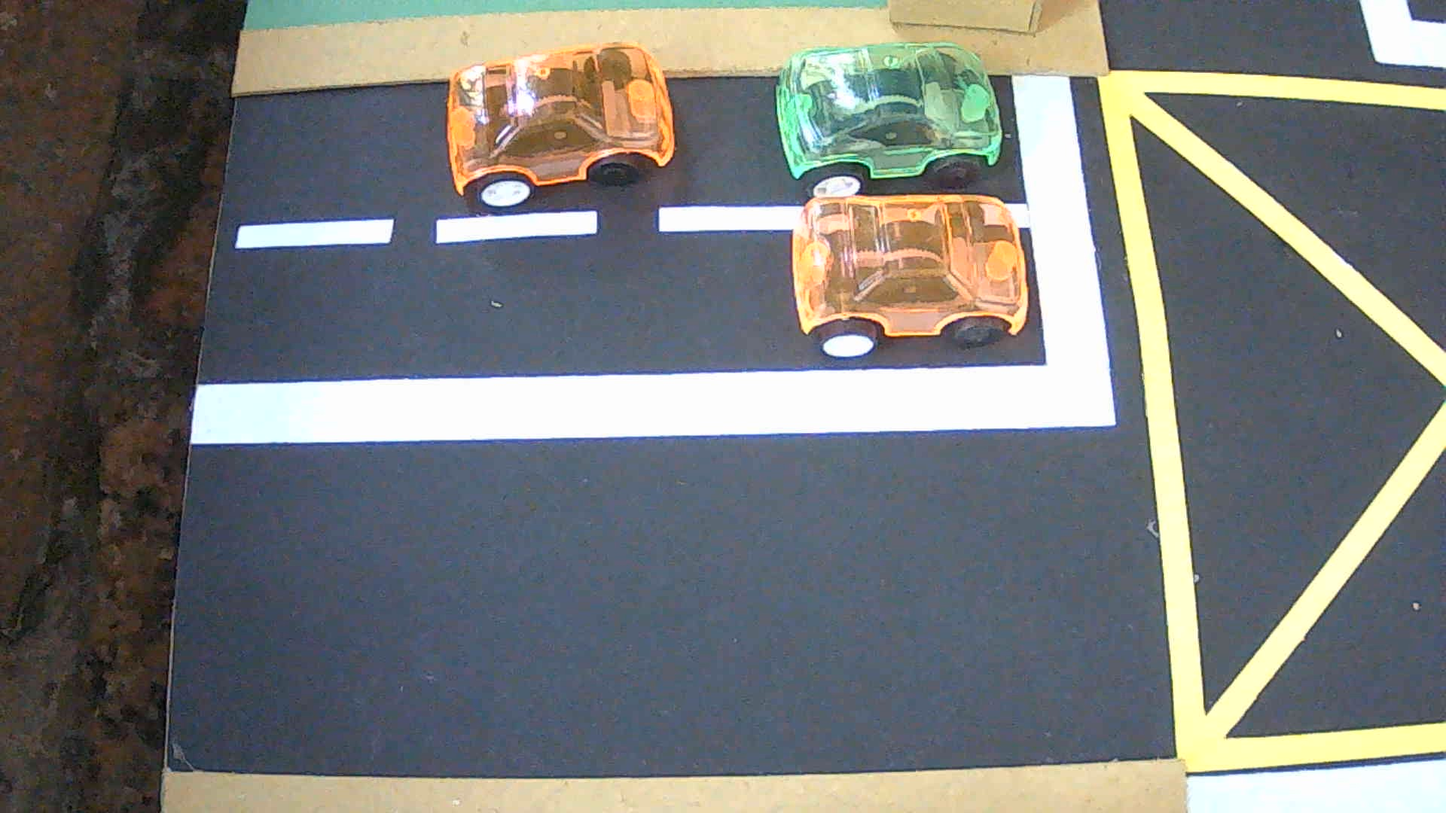Mobil hijau: (775, 42, 1002, 196)
Mobil orange: (792, 193, 1028, 358), (447, 43, 674, 213)
